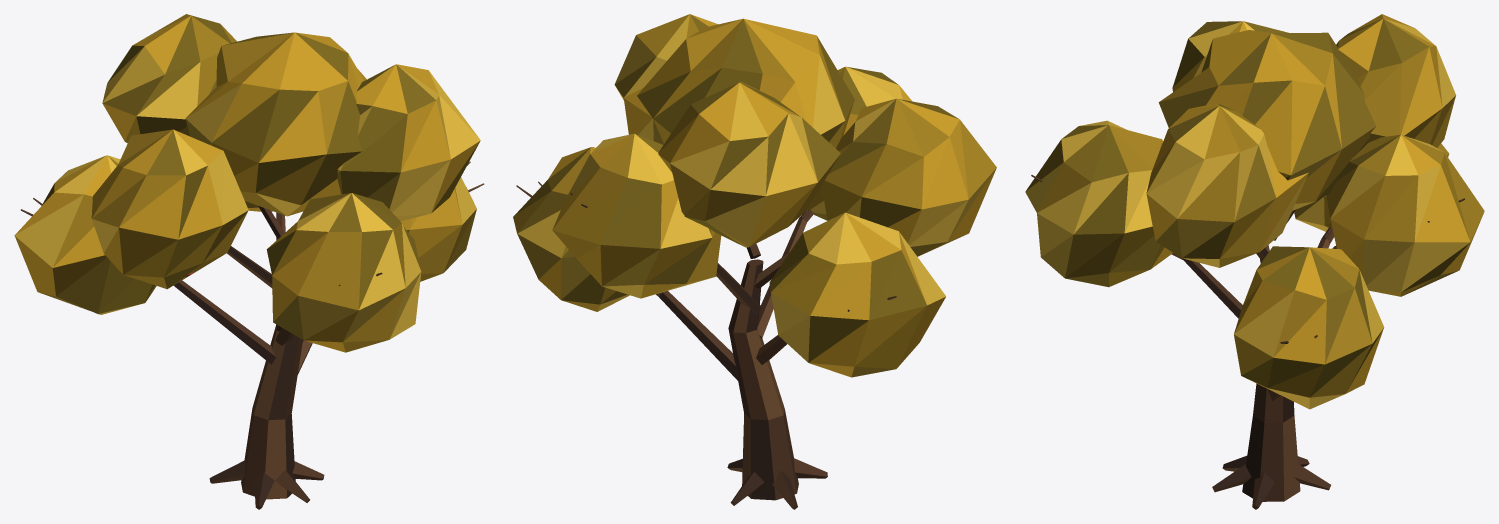
File: tree_rowan_gold.obj
3 views of the same model, side by side, from view 1: azimuth 30°, elevation 25°; view 2: azimuth 150°, elevation 25°; view 3: azimuth 270°, elevation 25° (orthographic). The views are drawn at different scales.
Parts seen in each view (by area): view 1: tree_rowan_gold; view 2: tree_rowan_gold; view 3: tree_rowan_gold.
Boxes of the visible parts, left/top/right/bottom form: tree_rowan_gold: left=14, top=14, right=484, bottom=509; tree_rowan_gold: left=513, top=14, right=996, bottom=509; tree_rowan_gold: left=1025, top=14, right=1484, bottom=509.
Size of the model in its own units: 317 by 320 by 283.
1 material, 1 textured.
